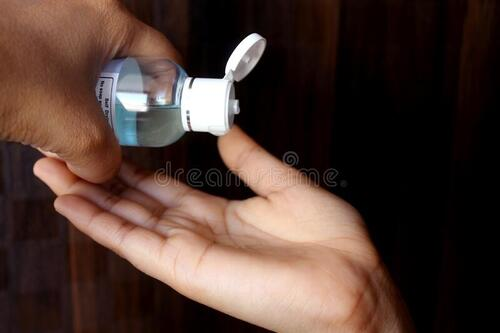sanitizer: (103, 58, 258, 141)
